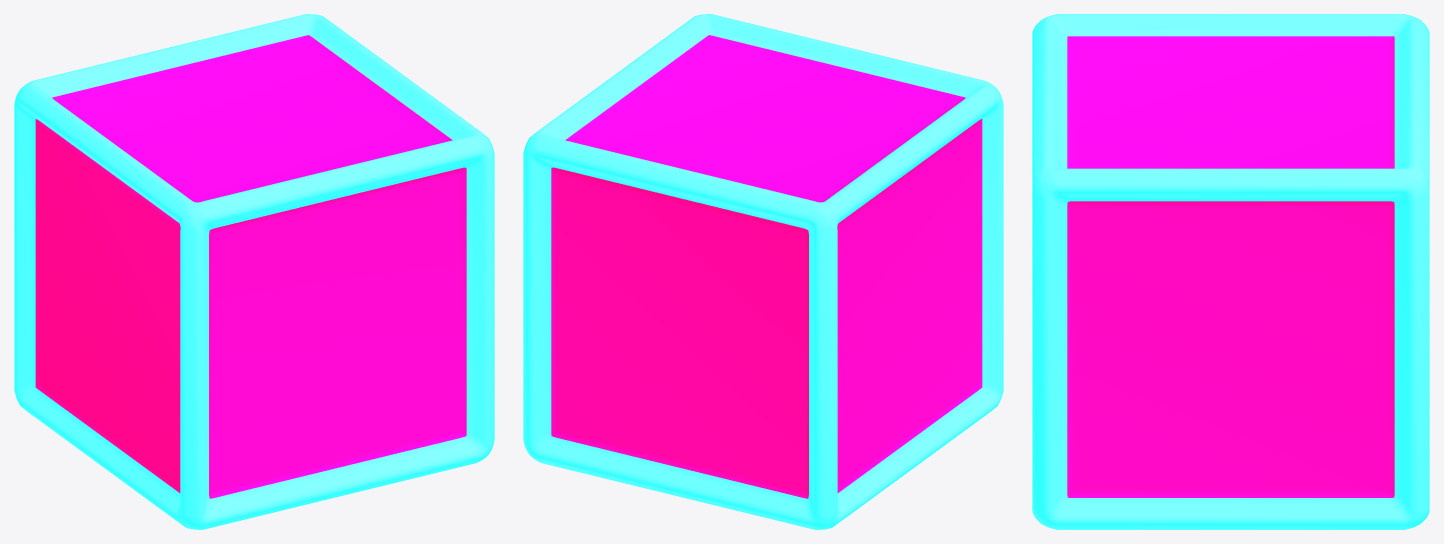
3 views of the same model, side by side, from view 1: azimuth 30°, elevation 25°; view 2: azimuth 150°, elevation 25°; view 3: azimuth 270°, elevation 25° (orthographic). The views are drawn at different scales.
Visible parts, largest first — view 1: Cube; view 2: Cube; view 3: Cube.
Boxes of the visible parts, x1,y1,x2,y2 form: Cube: (14, 14, 494, 529); Cube: (523, 14, 1003, 529); Cube: (1032, 14, 1429, 529).
Bounding box in the file's own units: 197 × 197 × 197.
